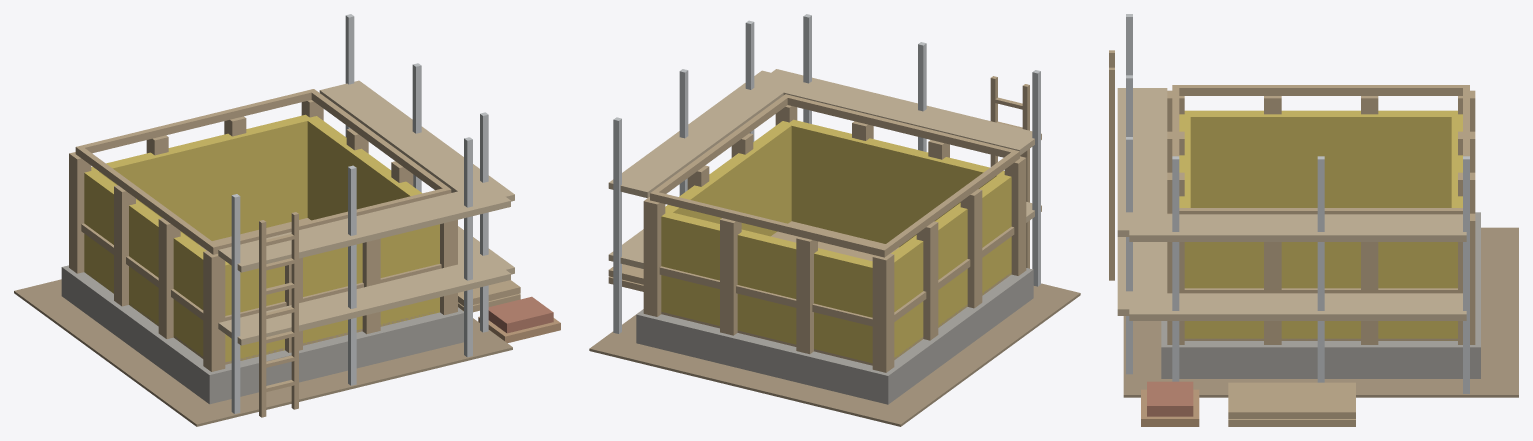
File: beehive_site_7.glb
3 views of the same model, side by side, from view 1: azimuth 30°, elevation 25°; view 2: azimuth 150°, elevation 25°; view 3: azimuth 270°, elevation 25° (orthographic). The views are drawn at different scales.
Parts seen in each view (by area): view 1: body; view 2: body; view 3: body.
Boxes of the visible parts, left/top/right/bottom form: body: left=14, top=14, right=560, bottom=426; body: left=589, top=14, right=1080, bottom=426; body: left=1109, top=14, right=1518, bottom=426.
Size of the model in its own units: 1.6 by 0.9 by 1.41.
